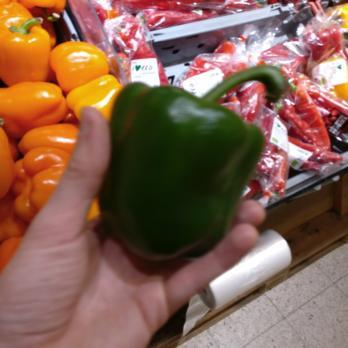Capsicum: (95, 80, 262, 265), (0, 0, 61, 193)
